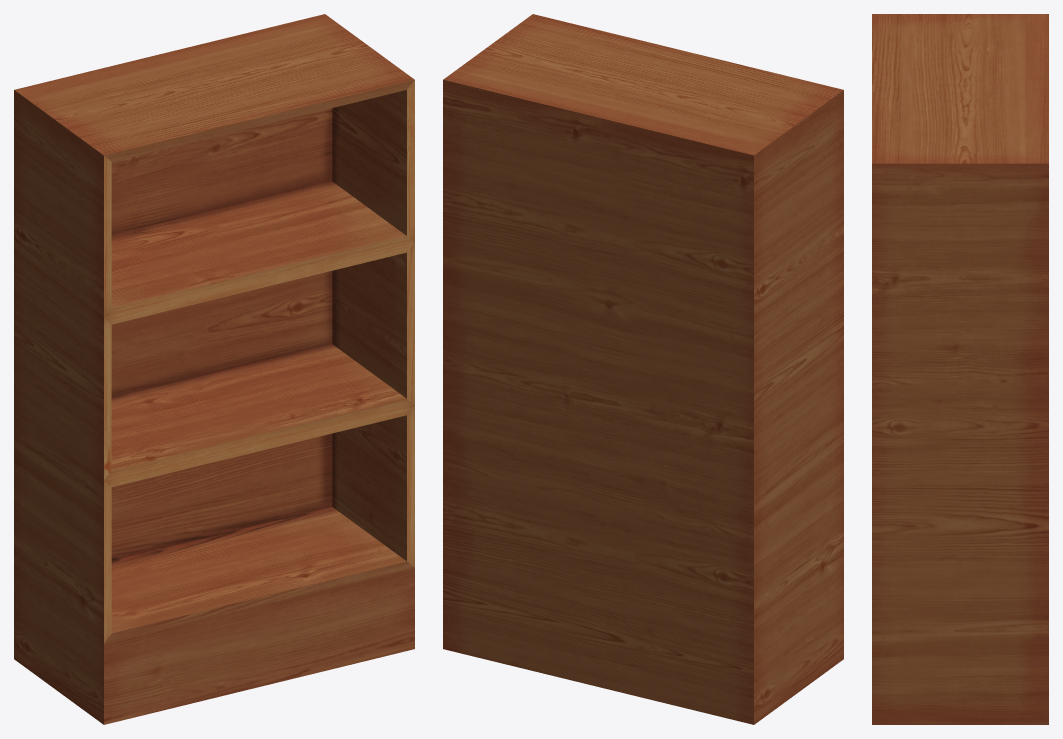
Rendered from Bookcase.FBX.
3 renders of one model, left to right at view 1: azimuth 30°, elevation 25°; view 2: azimuth 150°, elevation 25°; view 3: azimuth 270°, elevation 25°, orthographic.
Visible parts, largest first — view 1: Box001; view 2: Box001; view 3: Box001.
Part boxes in pixels (box(x1,y1,x2,y2)): Box001: box(14, 14, 414, 724); Box001: box(443, 14, 843, 724); Box001: box(872, 14, 1048, 724).
Bounding box in the file's own units: 39.37 × 68.9 × 19.69.
1 material, 1 textured.
